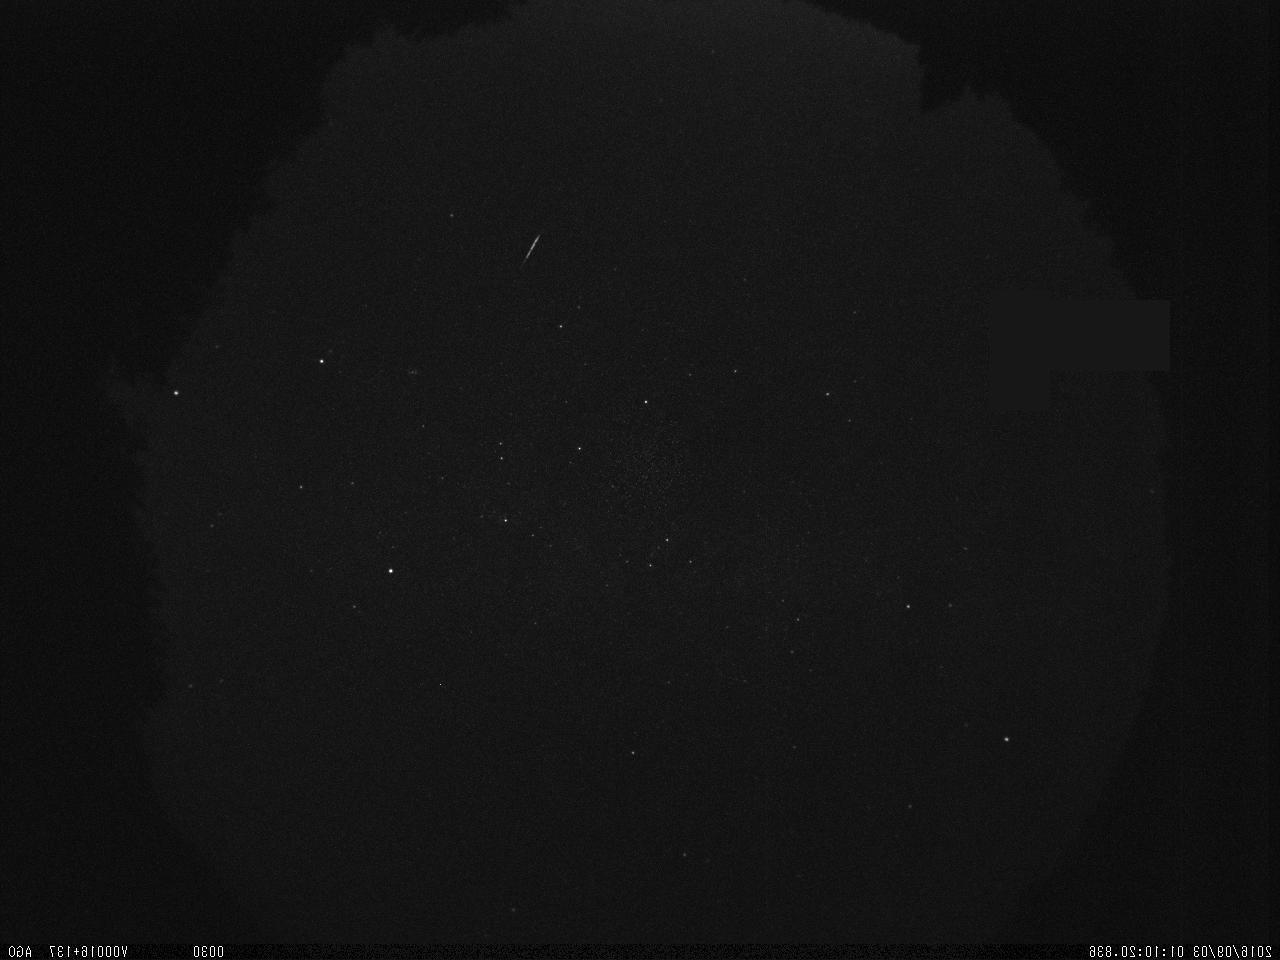meteor: (513, 223, 553, 270)
